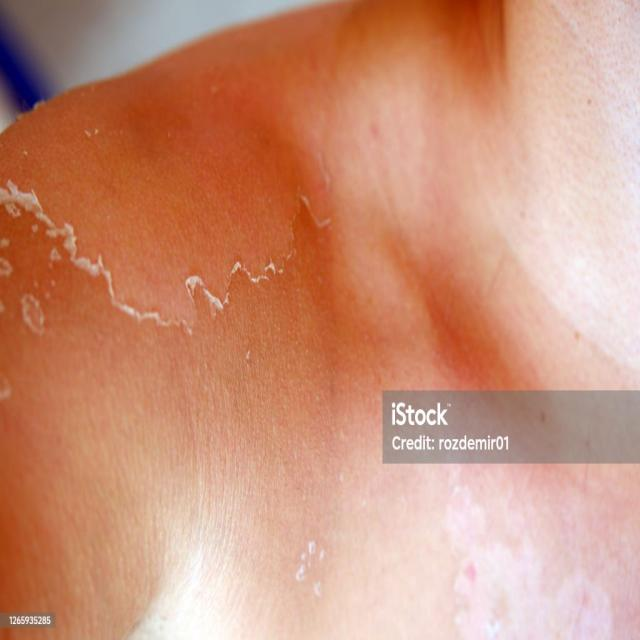Dry-Skin: (185, 448, 366, 640), (183, 163, 300, 394), (0, 141, 122, 343), (427, 70, 531, 291), (411, 527, 597, 608)
